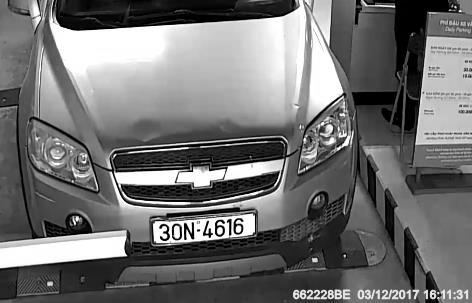License-plate: (143, 210, 264, 247)
